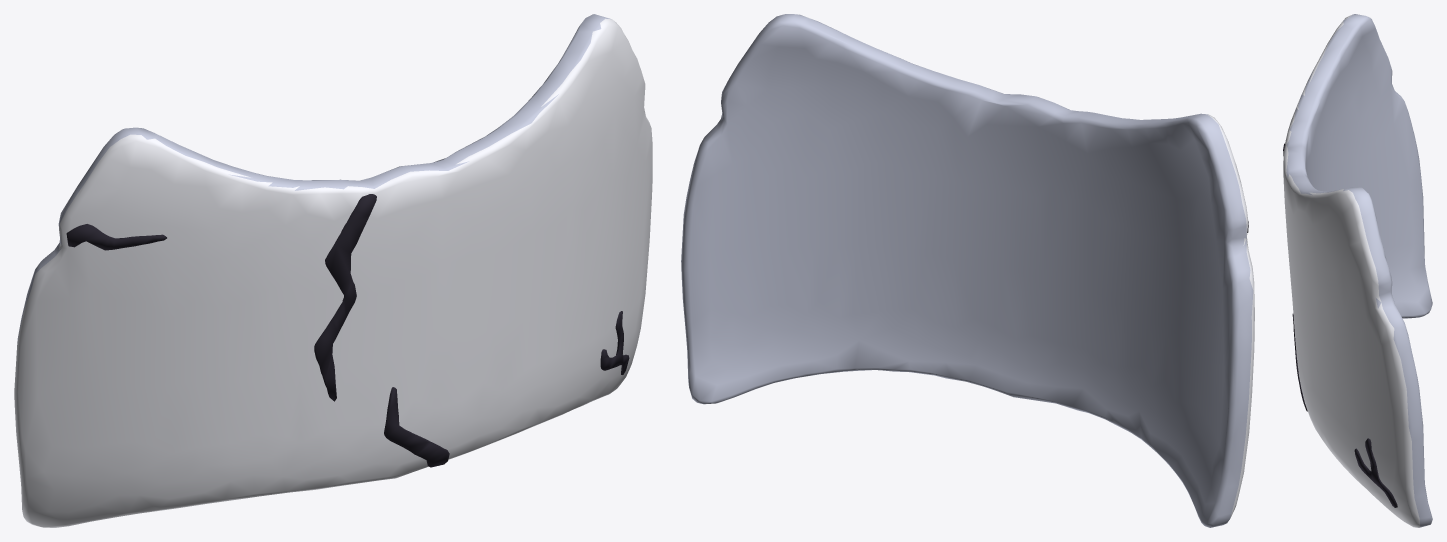
Rendered from plate-cracked-bow.glb.
3 renders of one model, left to right at view 1: azimuth 30°, elevation 25°; view 2: azimuth 150°, elevation 25°; view 3: azimuth 270°, elevation 25°, orthographic. The views are drawn at different scales.
Parts seen in each view (by area): view 1: plate-cracked-bow; view 2: plate-cracked-bow; view 3: plate-cracked-bow.
Part boxes in pixels (box(x1,y1,x2,y2)): plate-cracked-bow: box(14, 14, 652, 527); plate-cracked-bow: box(681, 14, 1254, 527); plate-cracked-bow: box(1283, 14, 1432, 527).
Bounding box in the file's own units: 0.5743 × 0.3564 × 0.153.
